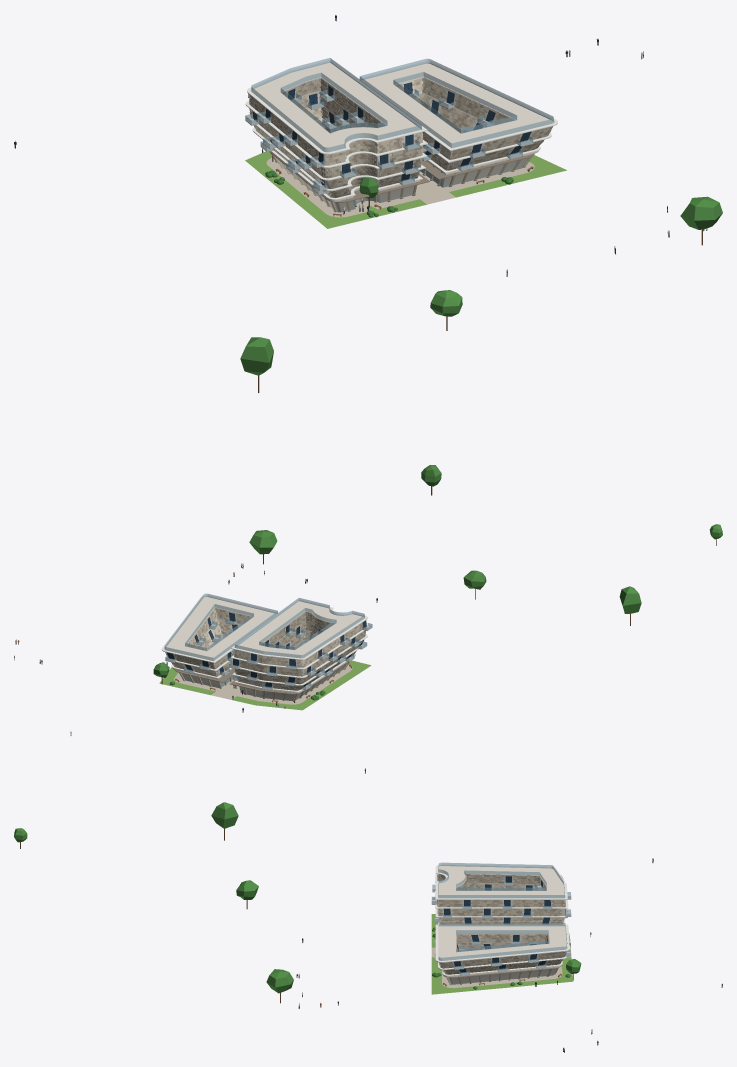
The model's file is design.glb.
The picture shows the model from 3 angles, top to bottom: view 1: azimuth 30°, elevation 25°; view 2: azimuth 150°, elevation 25°; view 3: azimuth 270°, elevation 25°; orthographic projection. The views are drawn at different scales.
Size of the model in its own units: 157 by 18.03 by 215.
